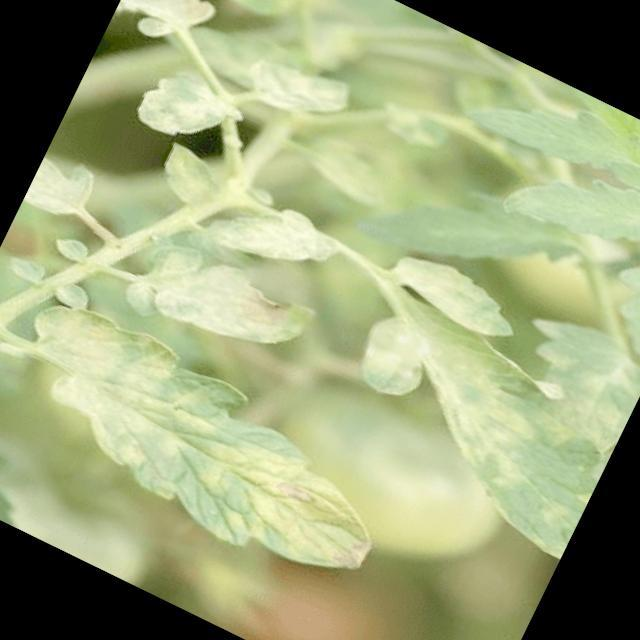Tomato yellow virus leaf: (0, 280, 416, 604), (301, 241, 640, 568), (108, 223, 326, 391), (198, 180, 346, 297), (123, 54, 250, 165), (240, 39, 360, 140)
